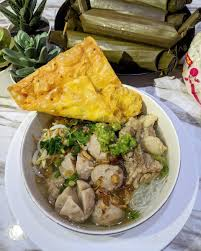bakso: (41, 118, 173, 226)
